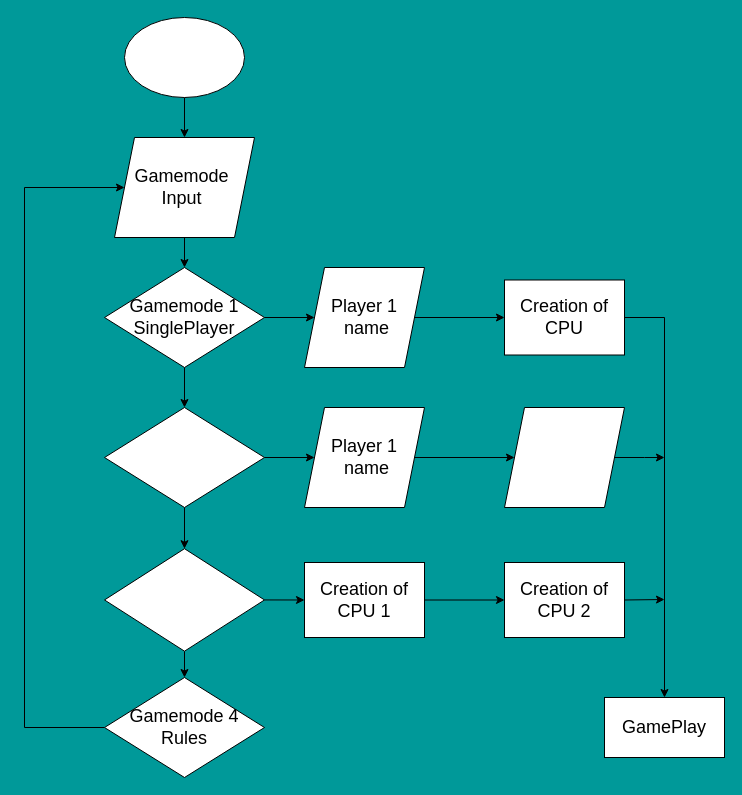
This 742x795 diagram has some shape labels left out. The box of each missing label's shape, as (x1, y1, x2, y2) in pixels:
Gamemode 2 MultiPlayer: (104, 406, 264, 508)
Gamemode 3 Simulation: (104, 548, 264, 651)
Player 2 name: (504, 406, 624, 508)
Start: (124, 16, 244, 98)
